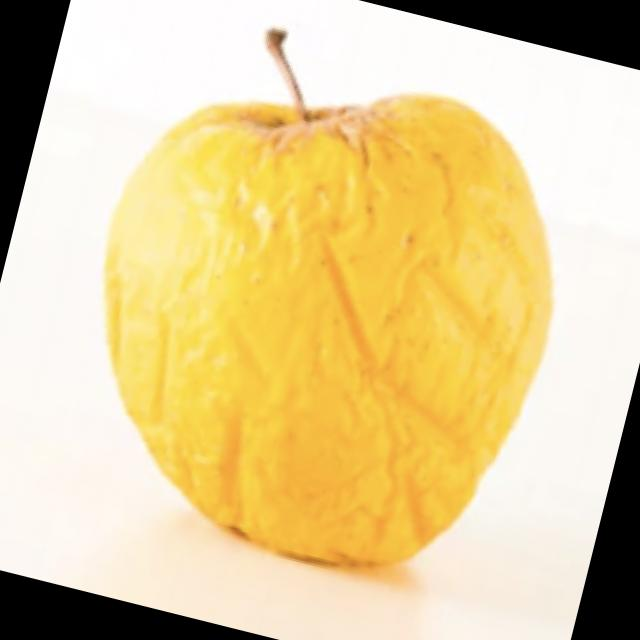rotten_apple: (41, 16, 600, 604)
